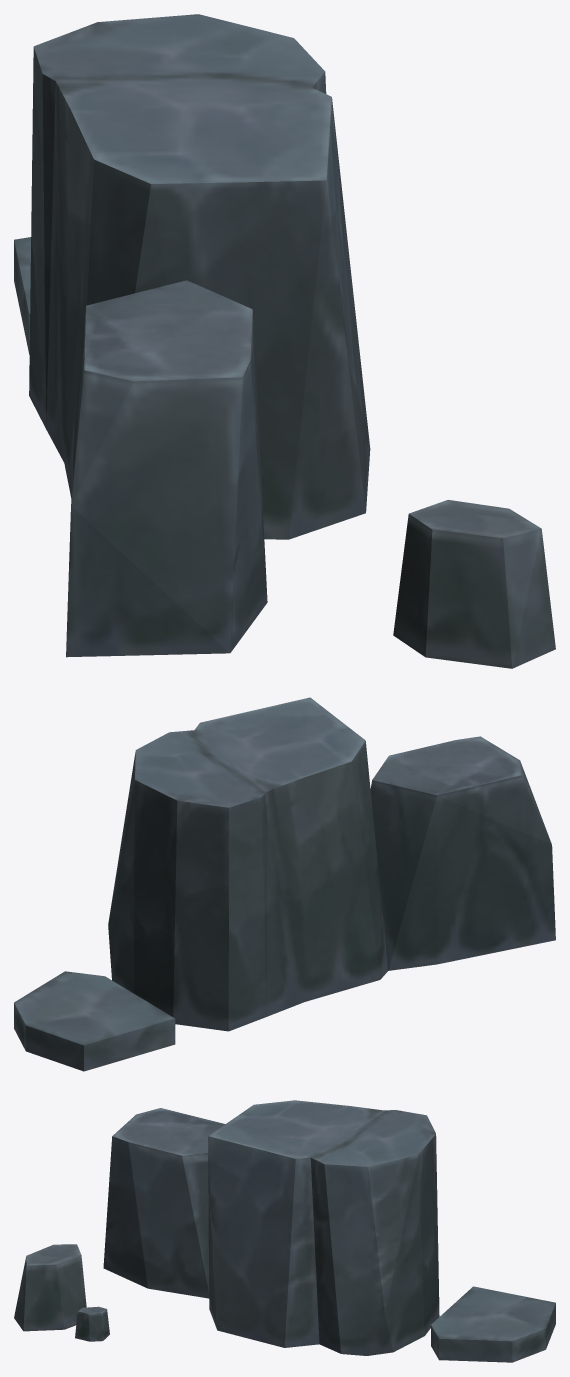
File: yanshi_05.FBX
3 renders of one model, top to bottom at view 1: azimuth 30°, elevation 25°; view 2: azimuth 150°, elevation 25°; view 3: azimuth 270°, elevation 25°, orthographic. The views are drawn at different scales.
Visible parts, largest first — view 1: Object003; view 2: Object003; view 3: Object003.
Part boxes in pixels (x1,y1,x2,y2): Object003: [14, 14, 555, 668]; Object003: [14, 697, 555, 1071]; Object003: [14, 1100, 555, 1362].
Bounding box in the file's own units: 326 × 219 × 591.
